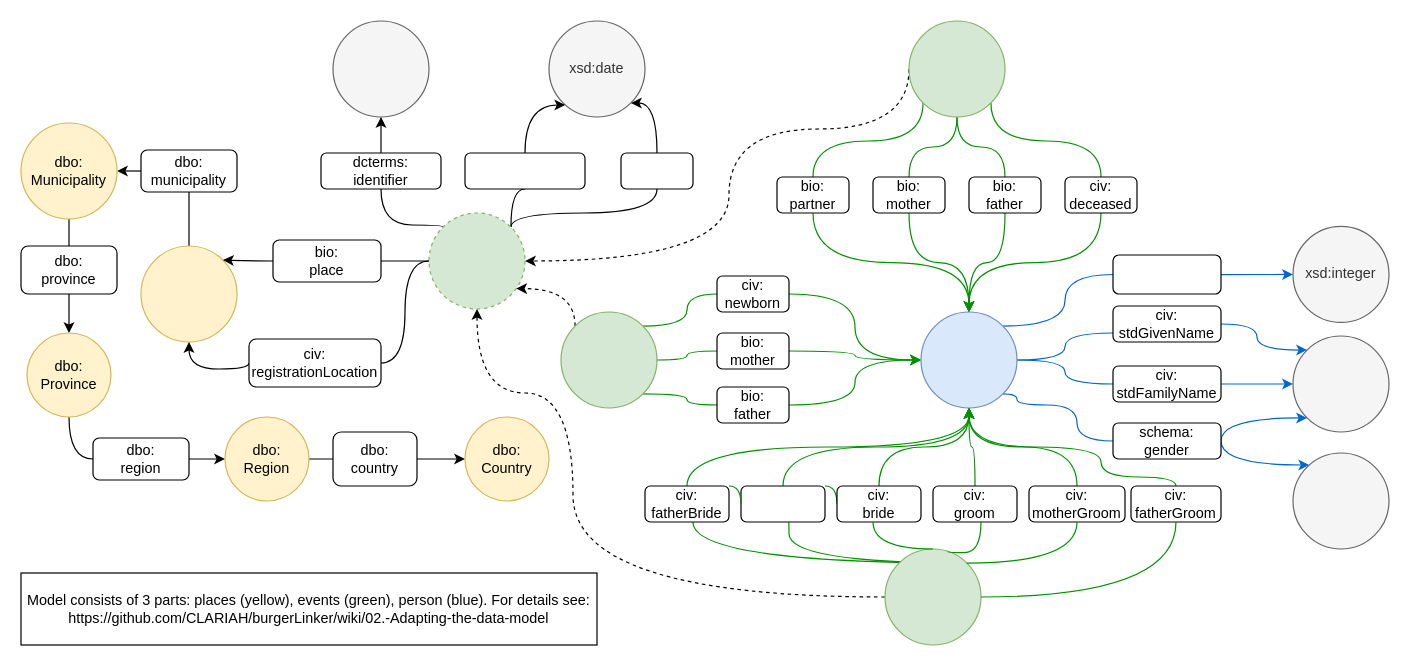
Image size: 1410x666. Some labels were removed from this diagram. Here are the shapes that lost their labels. From the top down, the centre of each, then its label:
At (x=380, y=68): "xsd:int xsd:integer".
At (x=956, y=68): "bio: Death".
At (x=524, y=170): "civ: registrationDate".
At (x=656, y=170): "bio: date".
At (x=476, y=260): "bio: Event".
At (x=1166, y=274): "schema: identifier".
At (x=188, y=293): "schema: Place".
At (x=608, y=359): "bio: Birth".
At (x=968, y=359): "schema: Person".
At (x=1340, y=383): "xsd:string".
At (x=782, y=503): "civ: motherBride".
At (x=1340, y=500): "schema: GenderType".
At (x=932, y=596): "bio: Marriage".
